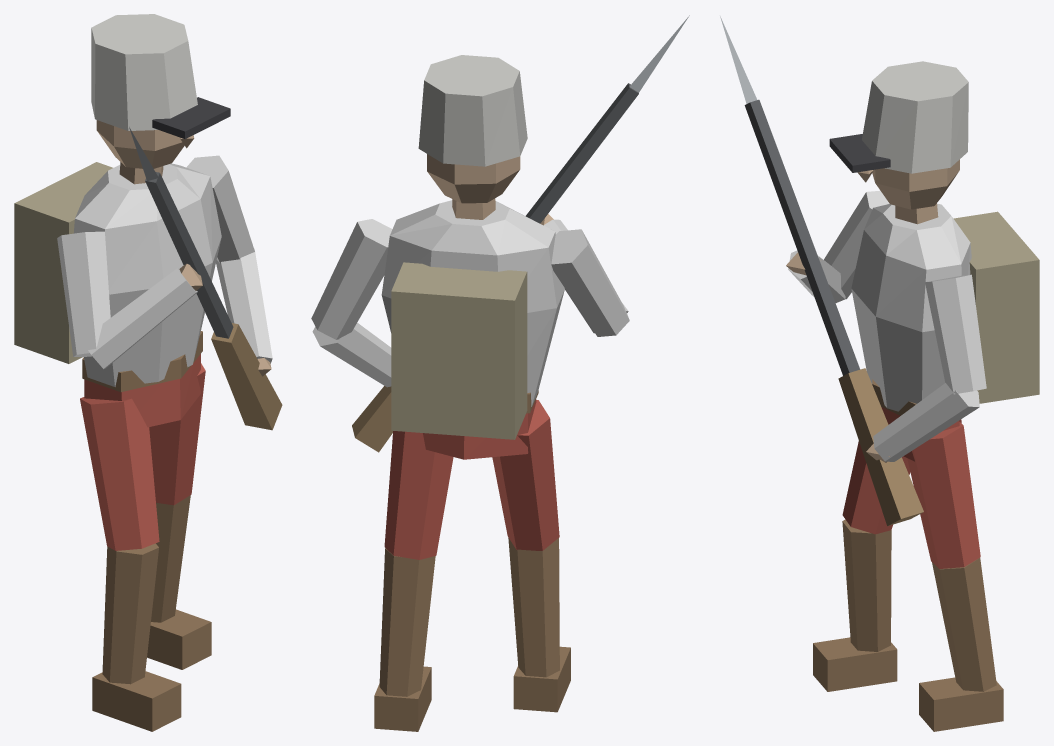
The model's file is foreign-legion.glb.
The picture shows the model from 3 angles, left to right: view 1: azimuth 30°, elevation 25°; view 2: azimuth 150°, elevation 25°; view 3: azimuth 270°, elevation 25°; orthographic projection. The views are drawn at different scales.
Parts seen in each view (by area): view 1: LOD0; view 2: LOD0; view 3: LOD0.
Part boxes in pixels (left/top/right/bottom): LOD0: left=14, top=14, right=282, bottom=731; LOD0: left=311, top=15, right=689, bottom=731; LOD0: left=720, top=16, right=1039, bottom=731.
Size of what is drawn, in the model's own units: 0.4122 by 1.02 by 0.474.
